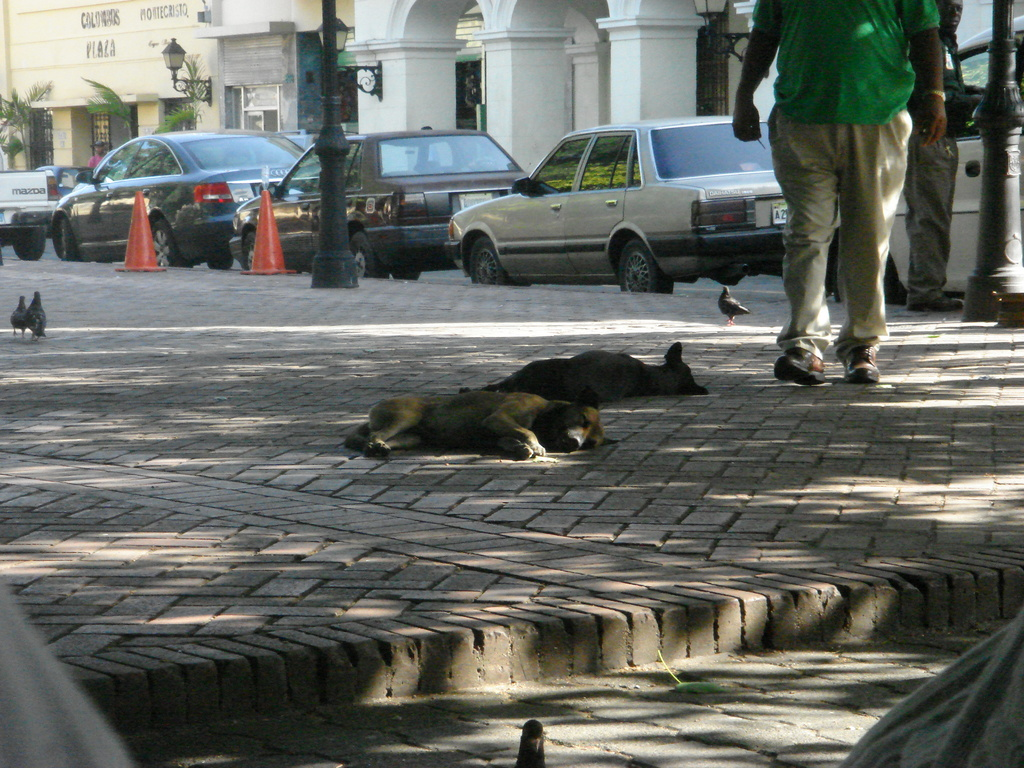Car: (0, 18, 1023, 303), (440, 113, 792, 293), (223, 124, 529, 282), (879, 18, 1023, 302), (47, 128, 318, 271), (37, 167, 85, 194)
